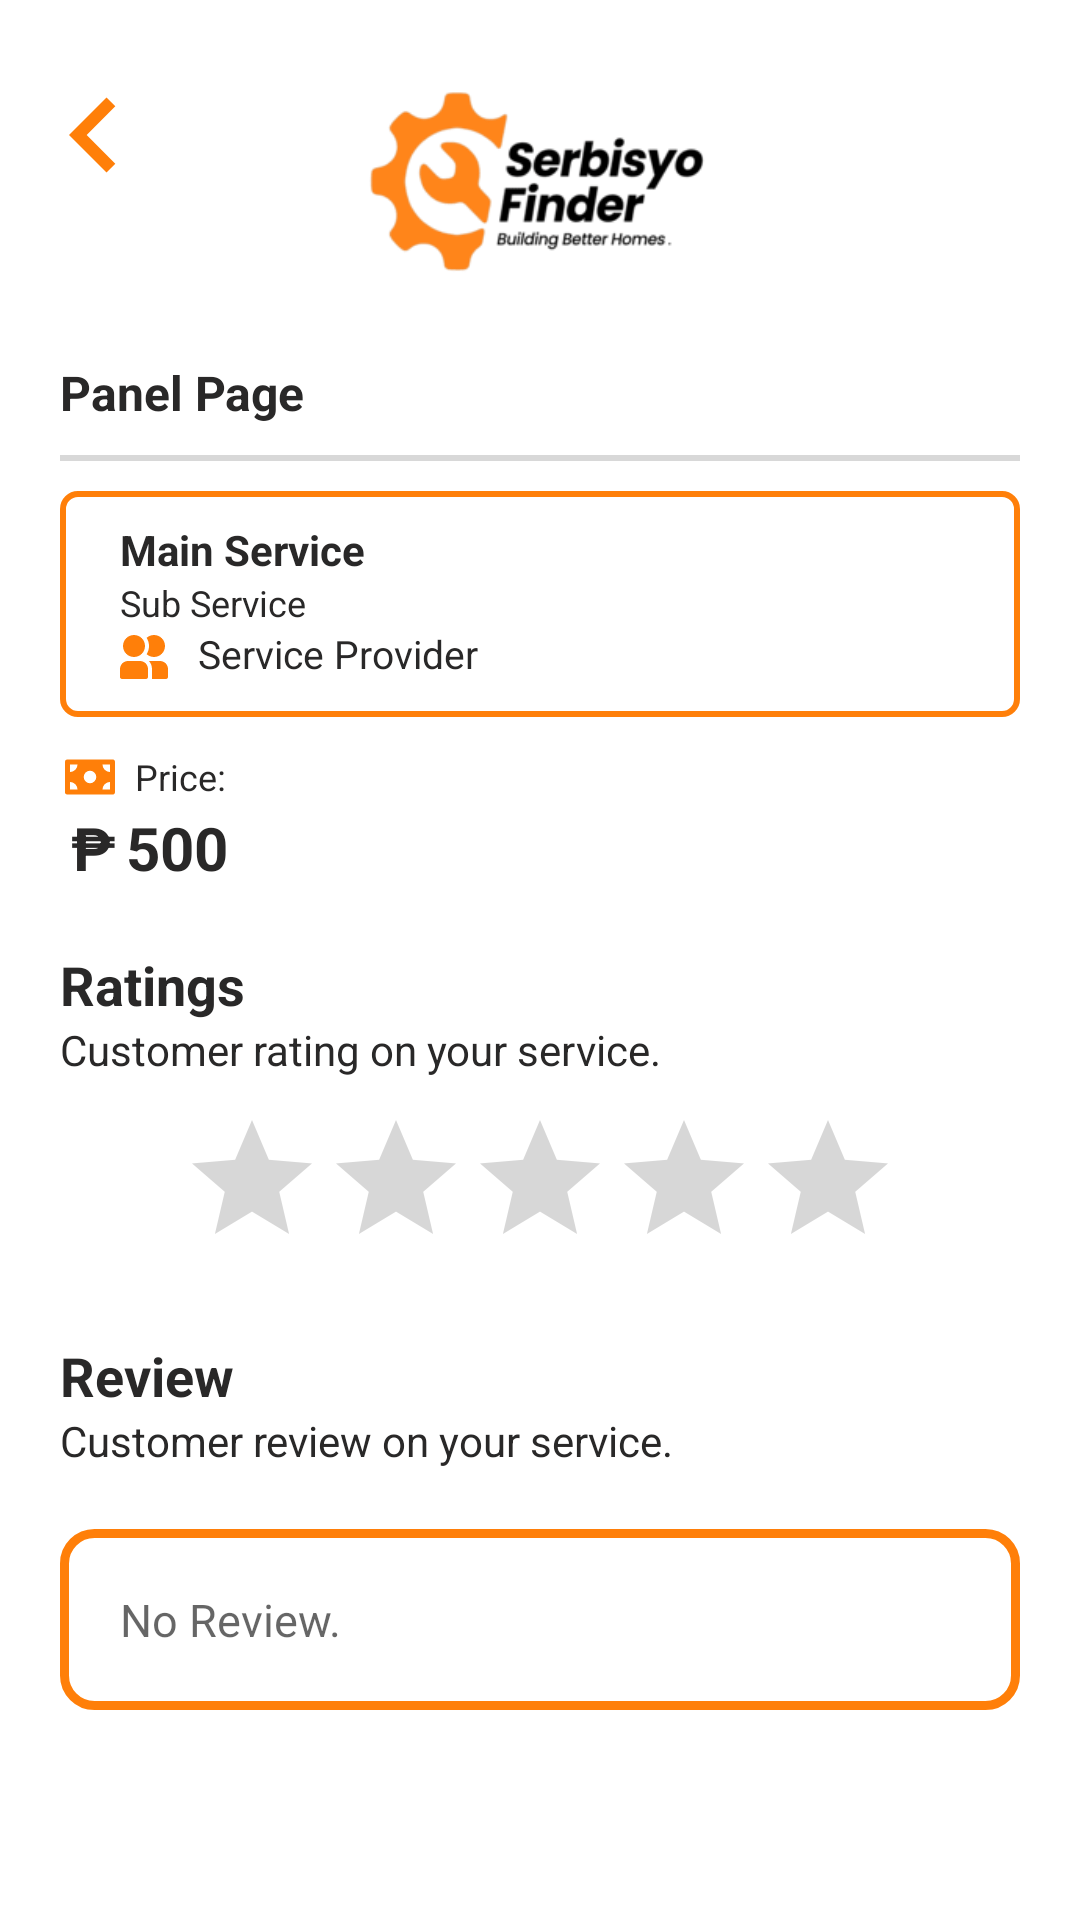

Named icons in this screenshot (1080 x 1920) and their bounding boxes, (x1, y1, x2, y2):
users: (120, 635, 168, 679)
